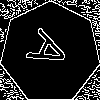A: (25, 27, 80, 79)
